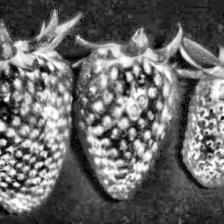Powdery Mildew Fruit: (70, 43, 179, 200), (0, 42, 76, 214), (182, 63, 224, 187)
